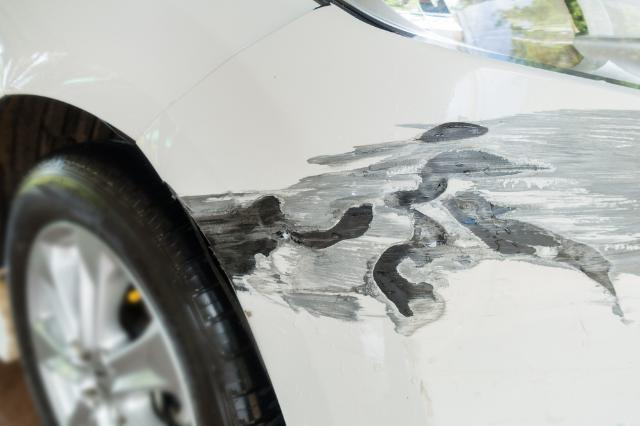scratch: (172, 106, 640, 343)
